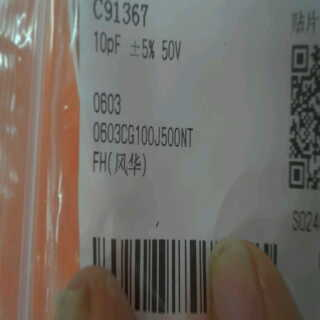10pF: (88, 28, 125, 59)
